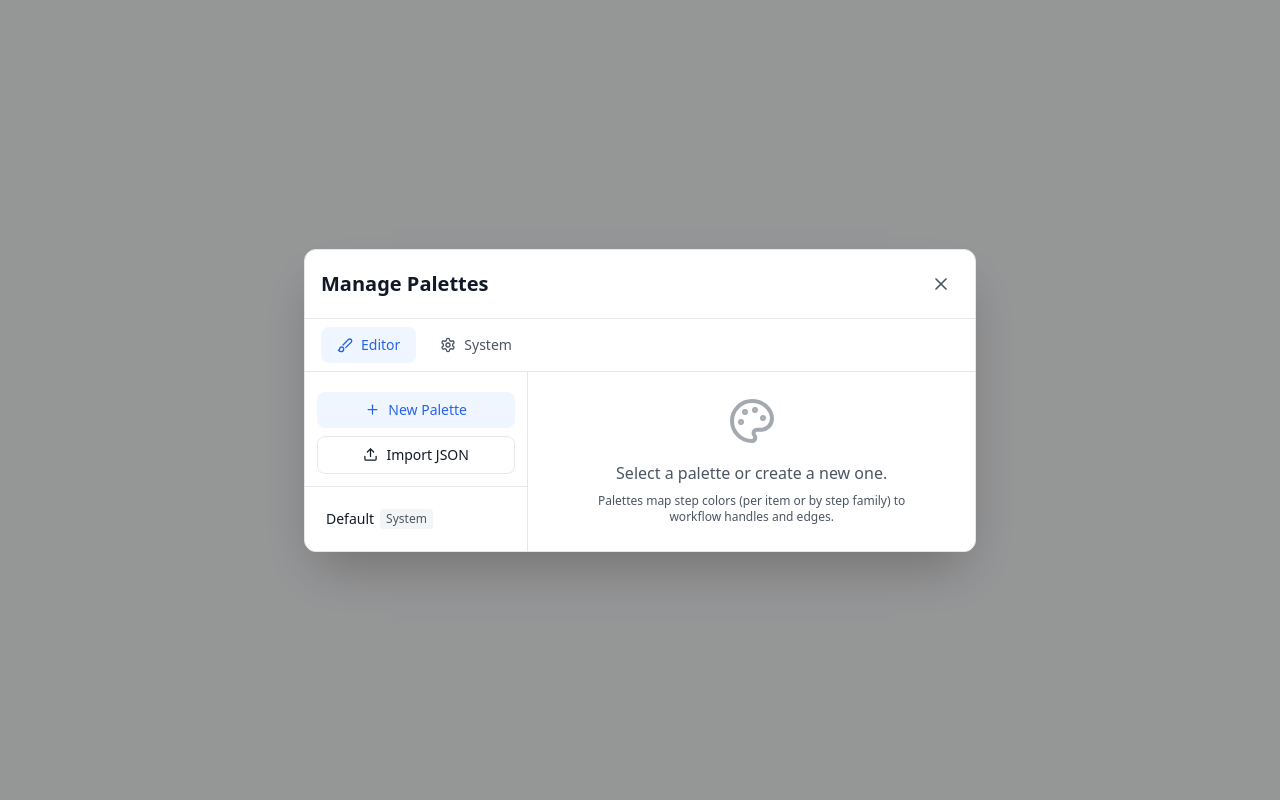
Scenario: PaletteManager › New System Theme keeps name field enabled (not mistaken for built-in)
This screenshot has width=1280, height=800.
Expected: the heading "Manage Palettes" is shown, [321,270,488,298]
What coordinates should you click on to do the following:
click the button "System"
I would click on:
 (476, 344)
Its box is [424,326,528,362].
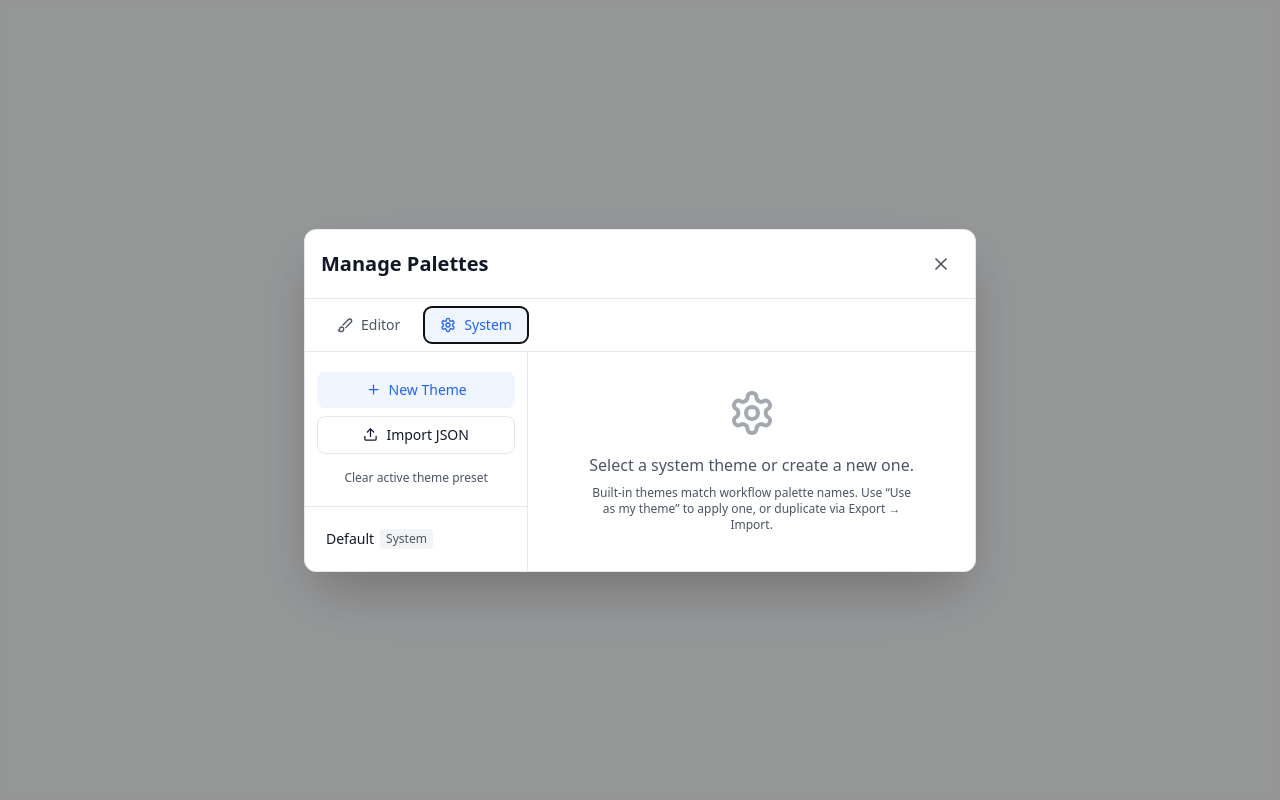
What coordinates should you click on to do the following:
click the button "New Theme"
I would click on:
 (416, 390)
Its box is [317,372,515,408].
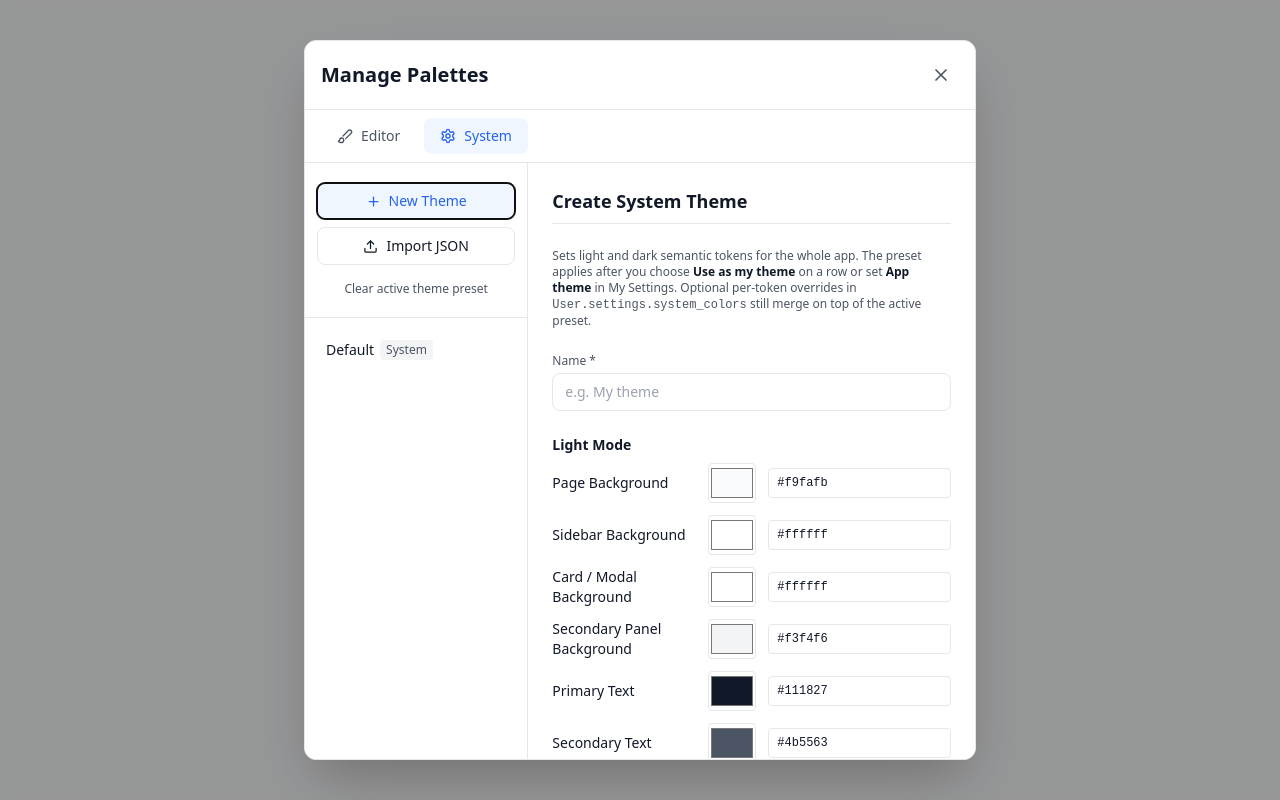
Expected: the field with placeholder "e.g. My theme" is enabled, [552,373,951,411]
